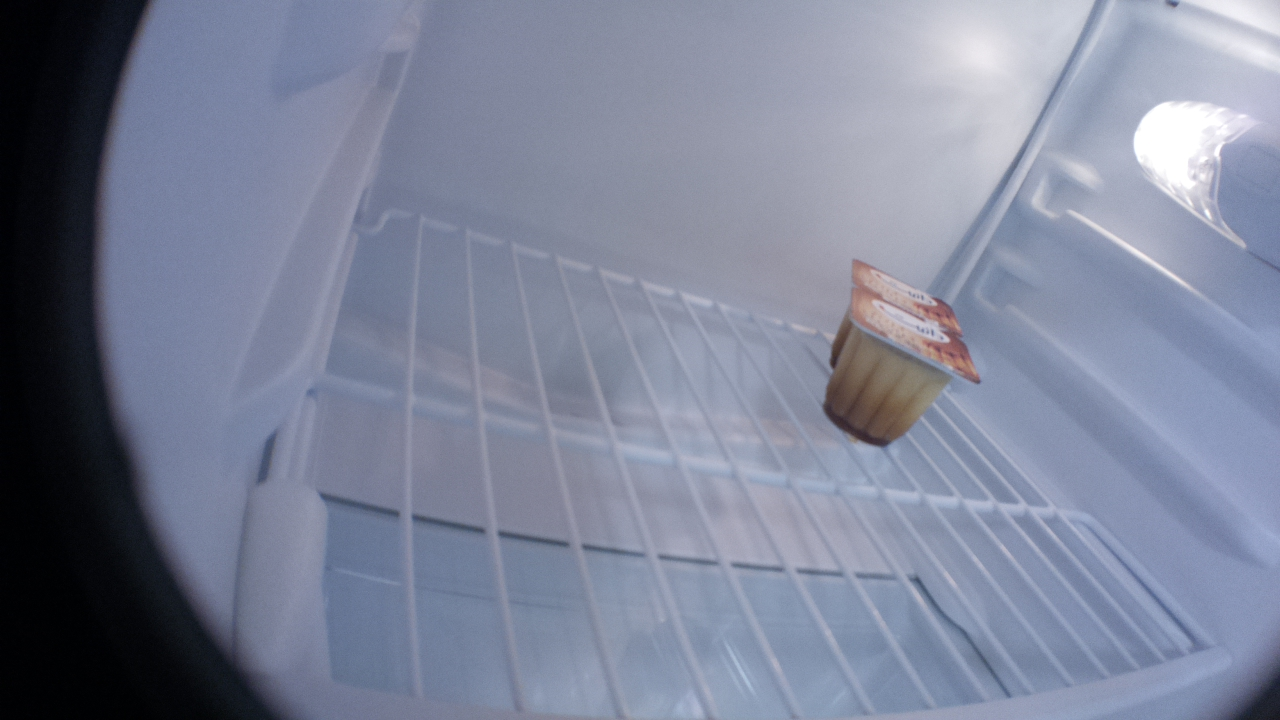caramel: (822, 282, 984, 449), (849, 256, 964, 340)
